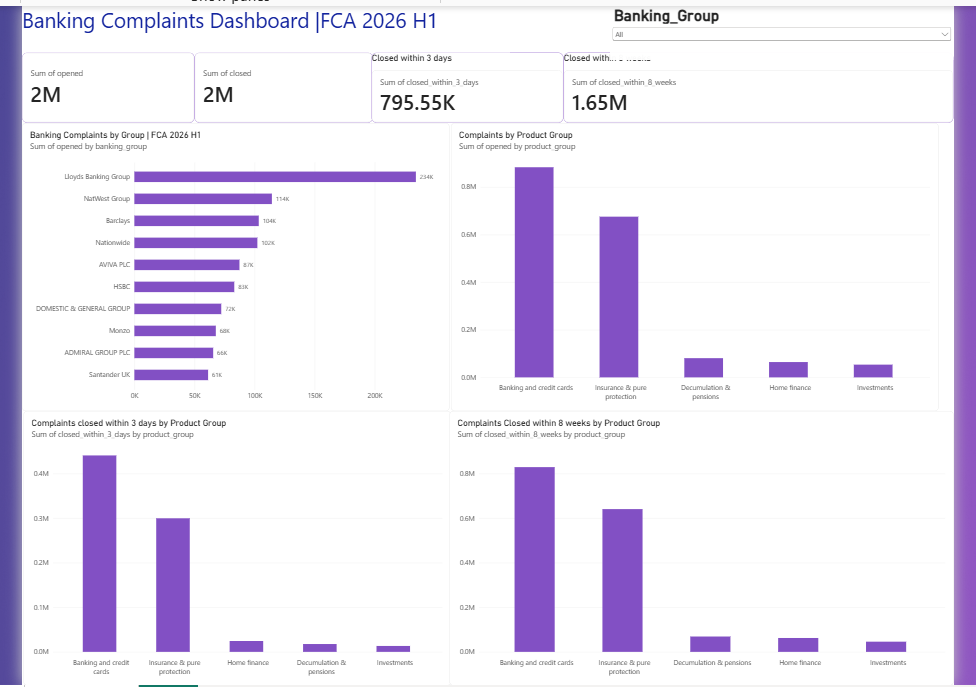

Layout of this report page (visuals, bound fields, positions):
{"tool":"powerbi","page":{"name":"Page 1","canvas":[1920,1400],"ordinal":0},"visuals":[{"type":"clusteredBarChart","title":"Banking Complaints by Group | FCA 2026 H1","fields":{"Category":["dim_firm.banking_group"],"Y":["Sum(fact_complaints.opened)"]},"box":[0,241.2,881.5,593.8],"z":0},{"type":"clusteredColumnChart","title":"Complaints by Product Group","fields":{"Category":["dim_product.product_group"],"Y":["Sum(fact_complaints.opened)"]},"box":[884.6,241.2,1005.2,593.8],"z":1000},{"type":"clusteredColumnChart","title":"Complaints closed within 3 days by Product Group ","fields":{"Category":["dim_product.product_group"],"Y":["Sum(fact_complaints.closed_within_3_days)"]},"box":[3.1,835.1,881.5,566],"z":2000},{"type":"clusteredColumnChart","title":"Complaints Closed within 8 weeks by Product Group","fields":{"Category":["dim_product.product_group"],"Y":["Sum(fact_complaints.closed_within_8_weeks)"]},"box":[881.5,835.1,1039.2,566],"z":3000},{"type":"cardVisual","fields":{"Data":["Sum(fact_complaints.opened)"]},"box":[0,95.9,355.7,145.4],"z":4000},{"type":"cardVisual","fields":{"Data":["Sum(fact_complaints.closed)"]},"box":[355.7,95.9,368,145.4],"z":5000},{"type":"cardVisual","title":"Closed within 3 days","fields":{"Data":["Sum(fact_complaints.closed_within_3_days)"]},"box":[720.6,95.9,395.9,145.4],"z":6000},{"type":"cardVisual","title":"Closed within 8 weeks","fields":{"Data":["Sum(fact_complaints.closed_within_8_weeks)"]},"box":[1116.5,95.9,804.1,145.4],"z":7000},{"type":"textbox","box":[0,0,1005.2,95.9],"z":7001},{"type":"slicer","fields":{"Values":["dim_firm.banking_group"]},"box":[1212.4,0,708.3,111.3],"z":7002}]}

Visuals, with their boxes on the page's 1920x1400 design canvas (x1, y1, x2, y2). These are canvas units, not pixel positions in the 976x687 screenshot, which may show the page scaled, cropped or inside an application window:
"Banking Complaints by Group | FCA 2026 H1" clusteredBarChart: box=[0, 241, 882, 835]
"Complaints by Product Group" clusteredColumnChart: box=[885, 241, 1890, 835]
"Complaints closed within 3 days by Product Group " clusteredColumnChart: box=[3, 835, 885, 1401]
"Complaints Closed within 8 weeks by Product Group" clusteredColumnChart: box=[882, 835, 1921, 1401]
cardVisual - Sum(fact_complaints.opened): box=[0, 96, 356, 241]
cardVisual - Sum(fact_complaints.closed): box=[356, 96, 724, 241]
"Closed within 3 days" cardVisual: box=[721, 96, 1116, 241]
"Closed within 8 weeks" cardVisual: box=[1116, 96, 1921, 241]
textbox: box=[0, 0, 1005, 96]
slicer - dim_firm.banking_group: box=[1212, 0, 1921, 111]
